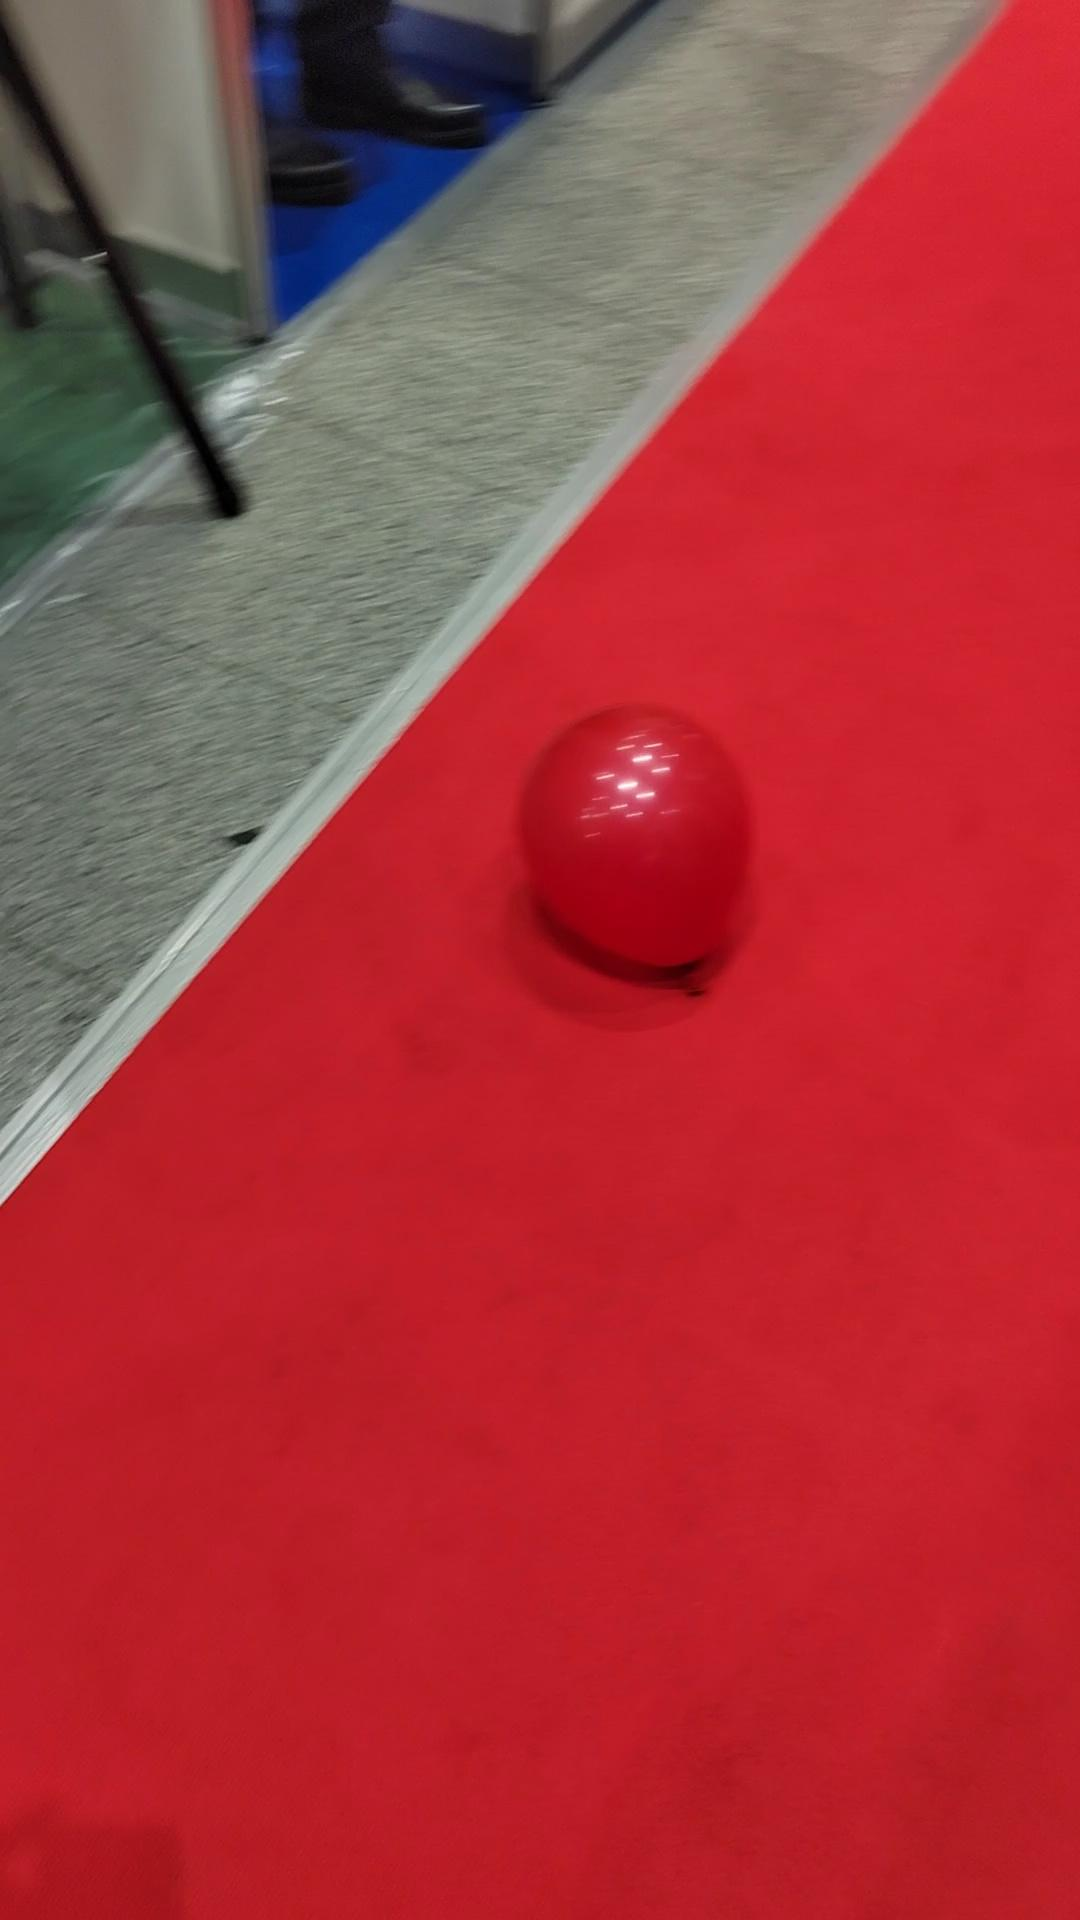red: (520, 703, 749, 968)
